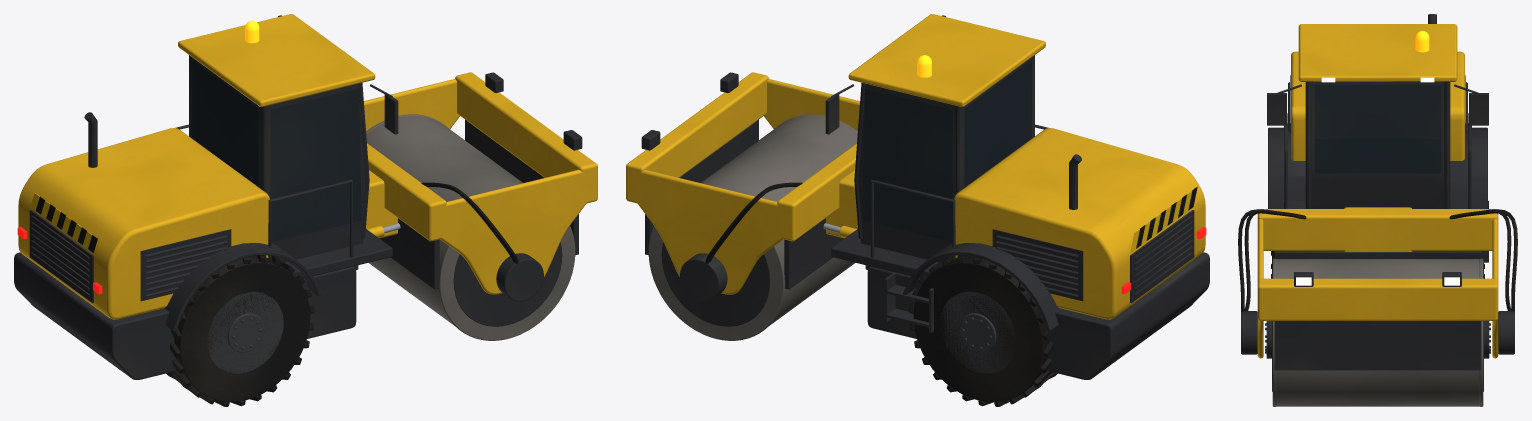
Rendered from roller_hd.glb.
3 renders of one model, left to right at view 1: azimuth 30°, elevation 25°; view 2: azimuth 150°, elevation 25°; view 3: azimuth 270°, elevation 25°, orthographic. The views are drawn at different scales.
Visible parts, largest first — view 1: engine_hood, front_frame, cab_shell, cab_glass, tyre_r, drum_shell, rear_frame, cab_roof, hood_grilles, rim_r, scrapers, drum_ends (+9 smaller); view 2: engine_hood, front_frame, cab_shell, cab_glass, tyre_l, drum_shell, cab_roof, rear_frame, hood_grilles, rim_l, scrapers, drum_ends (+8 smaller); view 3: front_frame, cab_shell, drum_shell, scrapers, cab_glass, cab_roof, fenders, engine_hood, drum_hoses, rails_steps_mirrors, front_details, cab_pillars (+5 smaller).
Boxes of the visible parts, x1,y1,x2,y2 form: engine_hood: (18, 128, 269, 319); front_frame: (364, 72, 597, 294); cab_shell: (189, 55, 365, 262); cab_glass: (192, 59, 361, 242); tyre_r: (166, 255, 314, 406); drum_shell: (366, 114, 575, 340); rear_frame: (14, 252, 356, 379); cab_roof: (178, 14, 375, 106); hood_grilles: (29, 210, 231, 303); rim_r: (207, 291, 283, 373); scrapers: (379, 119, 578, 289); drum_ends: (453, 242, 562, 326); engine_hood: (954, 128, 1205, 319); front_frame: (626, 72, 859, 294); cab_shell: (858, 55, 1034, 262); cab_glass: (862, 59, 1031, 242); tyre_l: (909, 255, 1057, 406); drum_shell: (648, 114, 857, 340); cab_roof: (848, 14, 1045, 106); rear_frame: (867, 252, 1209, 379); hood_grilles: (992, 210, 1194, 303); rim_l: (940, 291, 1016, 373); scrapers: (645, 119, 844, 289); drum_ends: (661, 242, 770, 326); front_frame: (1257, 207, 1498, 358); cab_shell: (1311, 82, 1444, 208); drum_shell: (1272, 258, 1483, 406); scrapers: (1274, 251, 1481, 370); cab_glass: (1314, 85, 1441, 173); cab_roof: (1298, 24, 1457, 81); fenders: (1268, 127, 1487, 208); engine_hood: (1291, 51, 1464, 160); drum_hoses: (1238, 209, 1517, 311); rails_steps_mirrors: (1267, 84, 1488, 262); front_details: (1241, 272, 1514, 354); cab_pillars: (1305, 82, 1450, 208).
Bounding box in the file's own units: 5.31 × 3.22 × 2.83.
Materials: 15 (6 with a texture image).
